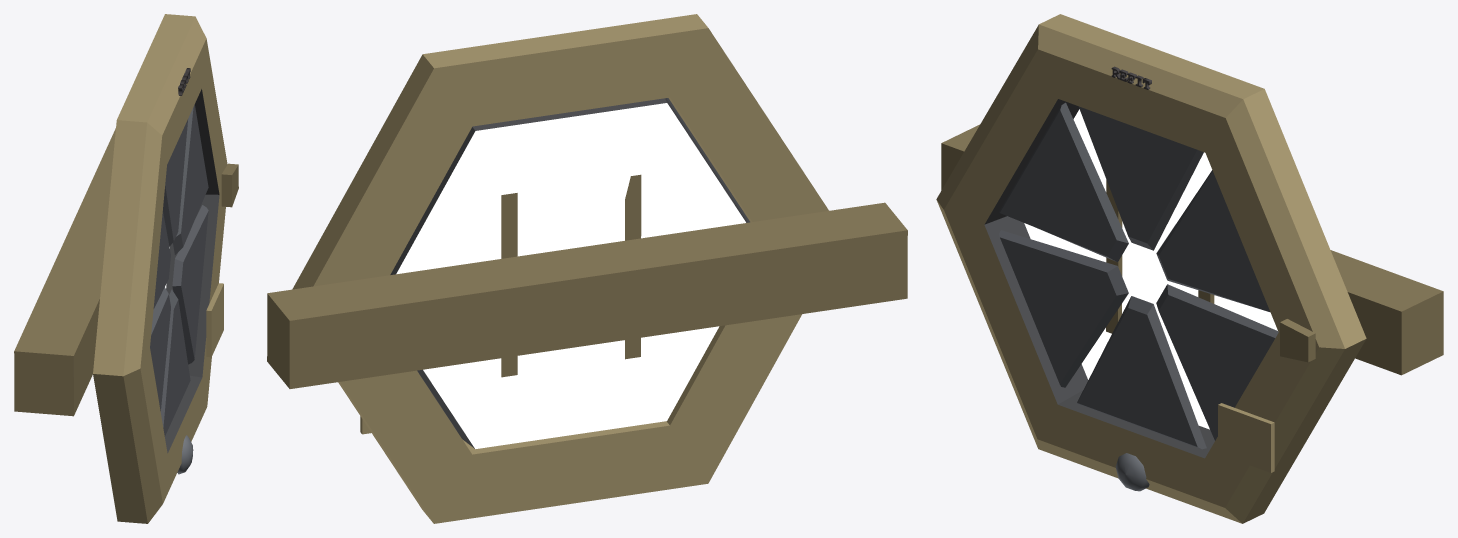
File: refit.glb
The picture shows the model from 3 angles, left to right: view 1: azimuth 30°, elevation 25°; view 2: azimuth 150°, elevation 25°; view 3: azimuth 270°, elevation 25°; orthographic projection. The views are drawn at different scales.
Parts seen in each view (by area): view 1: ota_refit_frame, ota_refit_srail, ota_refit_throat, ota_refit_leaf_5, ota_refit_leaf_0, ota_refit_leaf_4, ota_refit_leaf_1, ota_refit_leaf_3, ota_refit_tally, ota_refit_leaf_2, ota_refit_detent, ota_refit_jewel; view 2: ota_refit_frame, ota_refit_srail, ota_refit_glow, ota_refit_throat, ota_refit_guide_1, ota_refit_guide_0; view 3: ota_refit_frame, ota_refit_leaf_3, ota_refit_leaf_4, ota_refit_leaf_2, ota_refit_srail, ota_refit_leaf_5, ota_refit_leaf_1, ota_refit_leaf_0, ota_refit_glow, ota_refit_throat, ota_refit_tally, ota_refit_detent (+1 smaller).
Part boxes in pixels (x1,y1,x2,y2): ota_refit_frame: [93, 14, 227, 523]; ota_refit_srail: [14, 128, 115, 416]; ota_refit_throat: [165, 89, 219, 453]; ota_refit_leaf_5: [172, 205, 208, 364]; ota_refit_leaf_0: [173, 104, 208, 254]; ota_refit_leaf_4: [160, 289, 190, 436]; ota_refit_leaf_1: [163, 119, 187, 246]; ota_refit_leaf_3: [150, 287, 170, 411]; ota_refit_tally: [206, 283, 223, 357]; ota_refit_leaf_2: [153, 211, 170, 308]; ota_refit_detent: [221, 163, 238, 207]; ota_refit_jewel: [177, 435, 193, 474]; ota_refit_frame: [292, 14, 828, 523]; ota_refit_srail: [267, 202, 907, 388]; ota_refit_glow: [396, 103, 745, 448]; ota_refit_throat: [390, 98, 747, 448]; ota_refit_guide_1: [501, 193, 517, 377]; ota_refit_guide_0: [625, 174, 641, 359]; ota_refit_frame: [936, 14, 1366, 523]; ota_refit_leaf_3: [999, 230, 1128, 387]; ota_refit_leaf_4: [1077, 296, 1206, 449]; ota_refit_leaf_2: [999, 102, 1128, 262]; ota_refit_srail: [941, 124, 1443, 375]; ota_refit_leaf_5: [1156, 284, 1278, 440]; ota_refit_leaf_1: [1078, 106, 1203, 250]; ota_refit_leaf_0: [1156, 170, 1269, 311]; ota_refit_glow: [1024, 109, 1277, 429]; ota_refit_throat: [984, 99, 1214, 458]; ota_refit_tally: [1218, 403, 1274, 472]; ota_refit_detent: [1280, 319, 1315, 362].
Size of the model in its own units: 0.0584 by 0.0592 by 0.0641.
